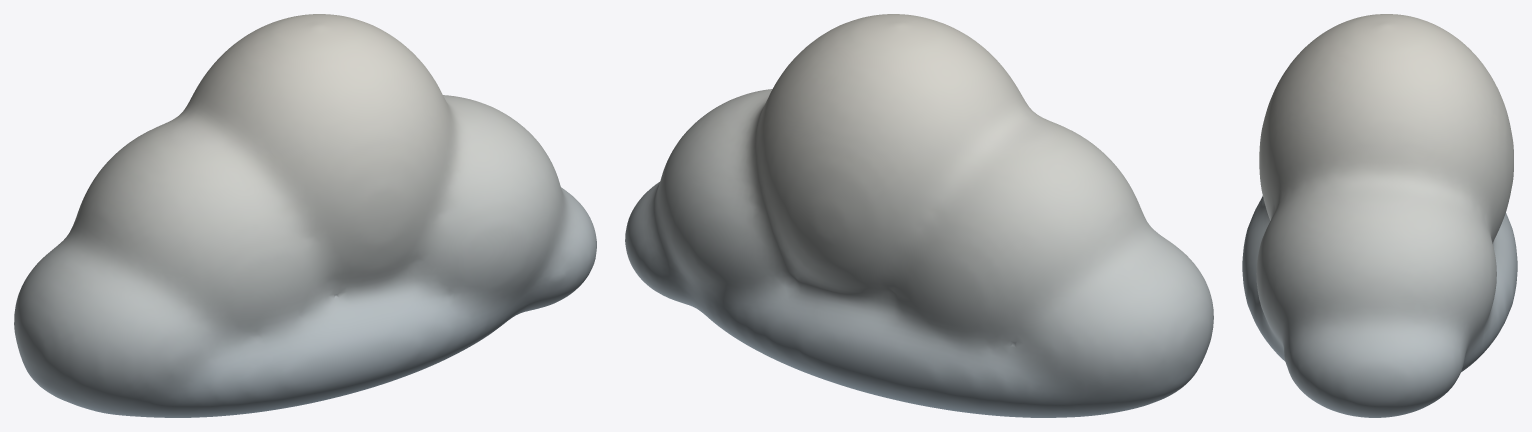
Rendered from fw_cloud_cumulus.hi.glb.
The picture shows the model from 3 angles, left to right: view 1: azimuth 30°, elevation 25°; view 2: azimuth 150°, elevation 25°; view 3: azimuth 270°, elevation 25°; orthographic projection. The views are drawn at different scales.
Parts seen in each view (by area): view 1: body; view 2: body; view 3: body.
Part boxes in pixels (x1=…): body: x1=14, y1=14, x2=596, y2=417; body: x1=625, y1=14, x2=1213, y2=417; body: x1=1242, y1=14, x2=1517, y2=417.
Bounding box in the file's own units: 3.64 × 2.16 × 1.67.
